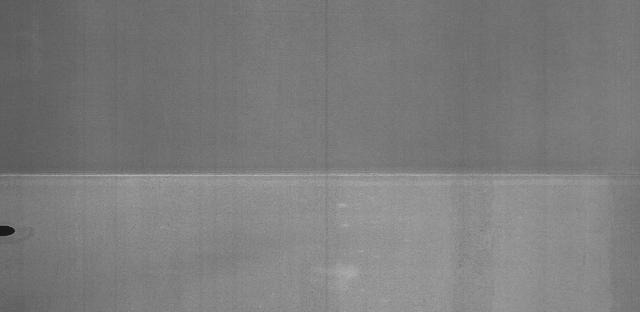punching_hole: (0, 214, 23, 243)
welding_line: (2, 163, 640, 190)
